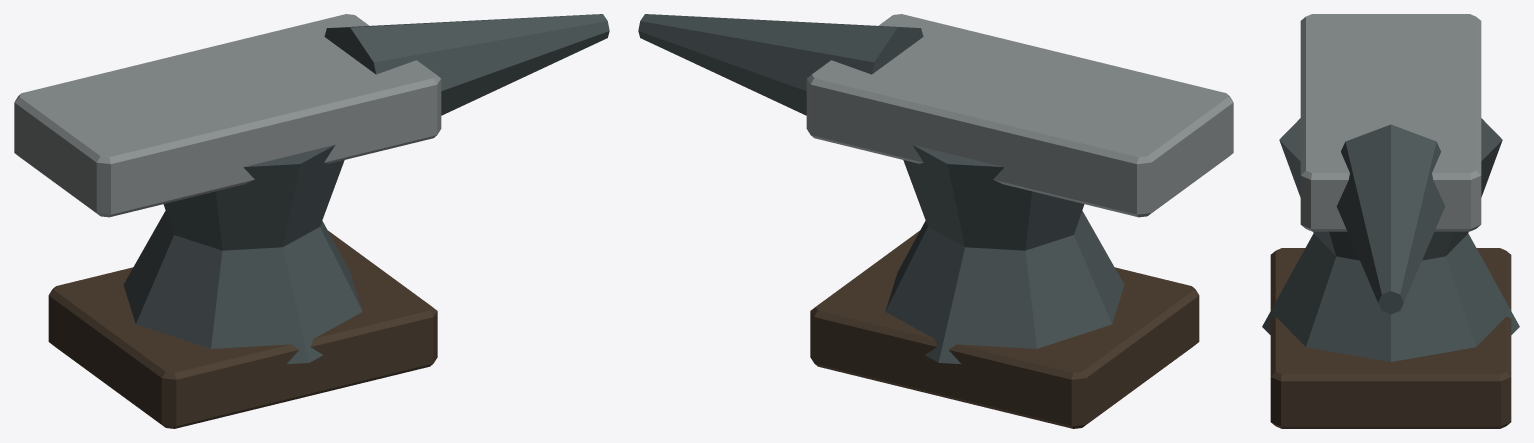
The model's file is compact-anvil.glb.
3 renders of one model, left to right at view 1: azimuth 30°, elevation 25°; view 2: azimuth 150°, elevation 25°; view 3: azimuth 270°, elevation 25°, orthographic. The views are drawn at different scales.
Visible parts, largest first — view 1: compact-anvil__body; view 2: compact-anvil__body; view 3: compact-anvil__body.
Boxes of the visible parts, x1,y1,x2,y2 form: compact-anvil__body: (14,14,609,428); compact-anvil__body: (638,14,1233,428); compact-anvil__body: (1262,14,1519,428).
Size of the model in its own units: 0.715 by 0.375 by 0.3.
